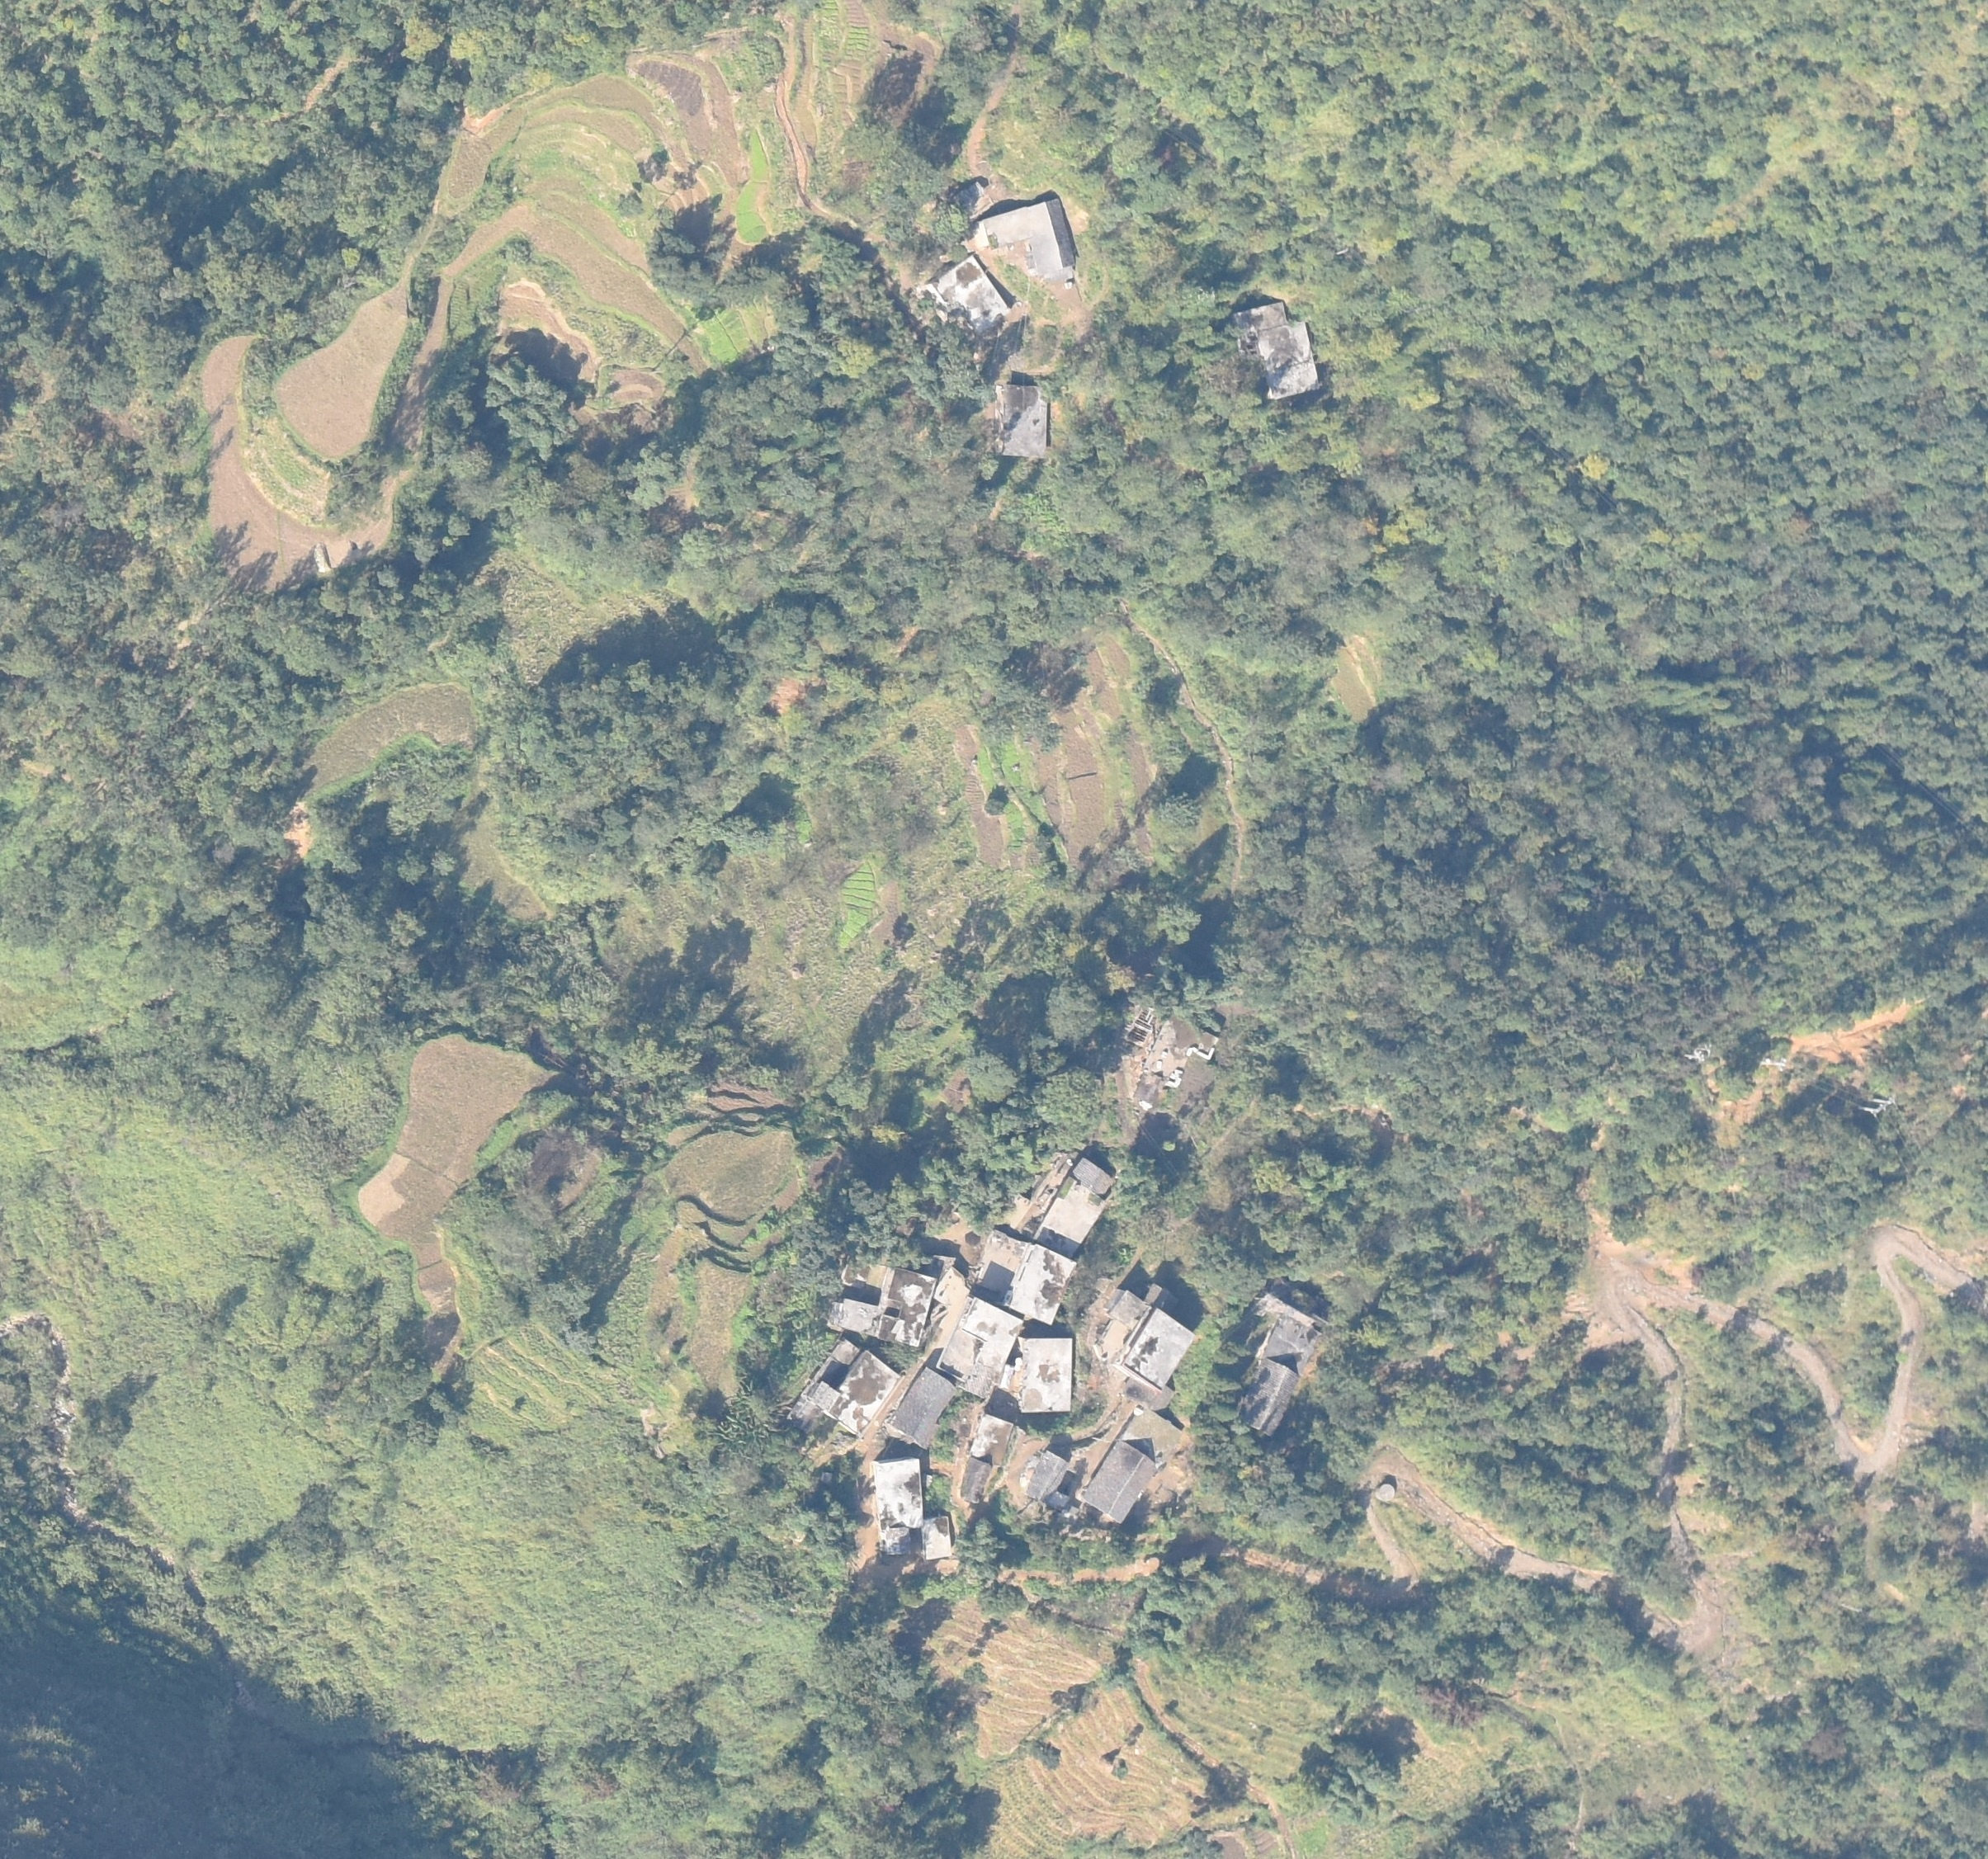building: (1230, 1308, 1319, 1439), (1097, 1281, 1196, 1390), (801, 1337, 905, 1437), (976, 1228, 1075, 1327), (829, 1260, 936, 1347), (937, 1296, 1023, 1401), (1232, 301, 1323, 400), (1032, 1154, 1113, 1258), (978, 200, 1077, 276), (1082, 1436, 1159, 1525), (924, 257, 1005, 328), (888, 1367, 956, 1449), (871, 1456, 923, 1529), (994, 388, 1050, 455), (1024, 1338, 1071, 1413), (967, 1412, 1022, 1461), (1025, 1450, 1070, 1507), (962, 1455, 994, 1504), (921, 1513, 952, 1559), (876, 1529, 909, 1557)
cable-tower: (1859, 1093, 1896, 1122), (1686, 1040, 1713, 1064), (1763, 1055, 1787, 1074)
well: (1376, 1483, 1395, 1503)
